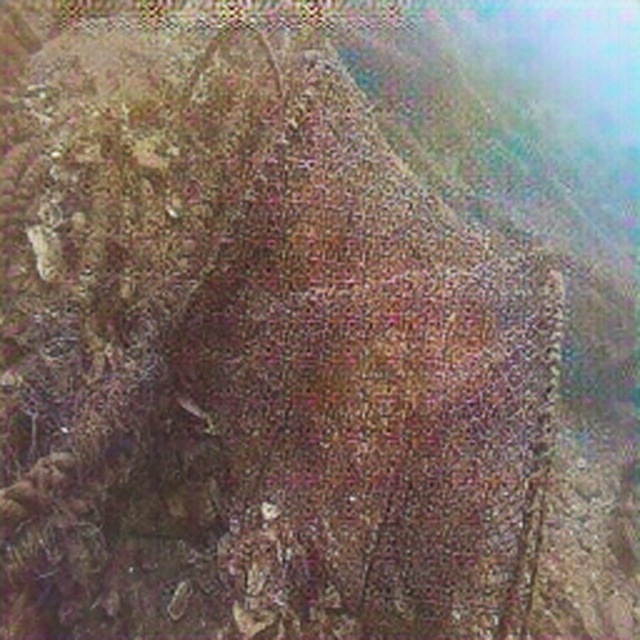mine: (177, 41, 564, 639)
